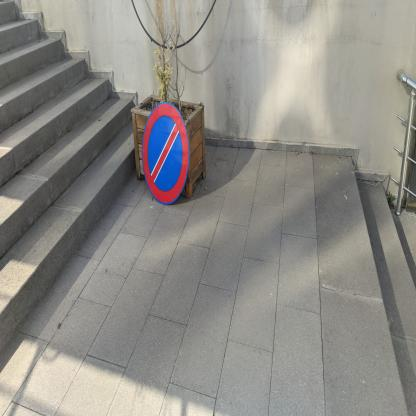No Waiting: (143, 103, 191, 206)
